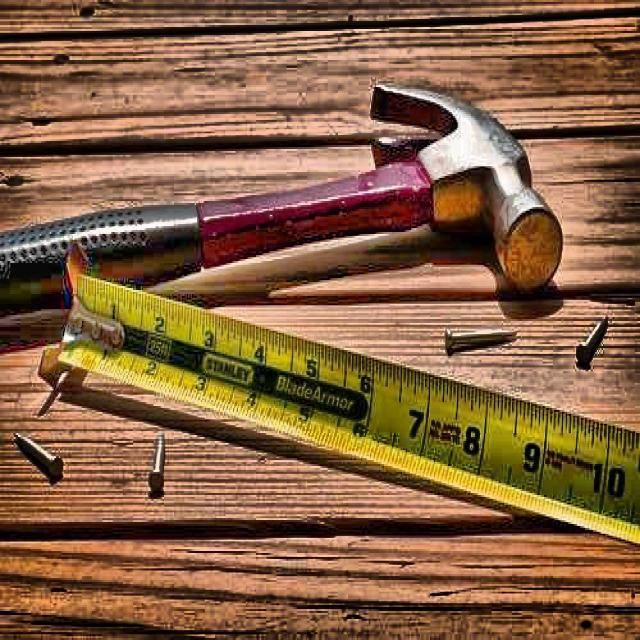hammer: (0, 79, 567, 321)
